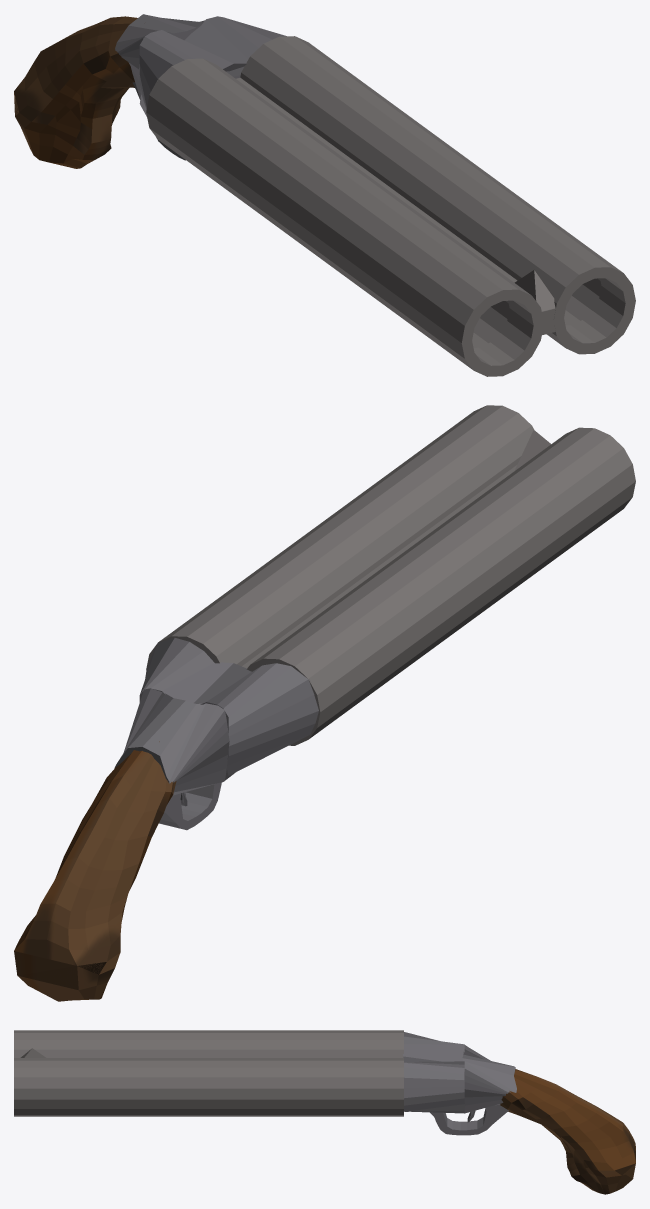
Rendered from Shotgun Mayhem fix.fbx.
The picture shows the model from 3 angles, top to bottom: view 1: azimuth 30°, elevation 25°; view 2: azimuth 150°, elevation 25°; view 3: azimuth 270°, elevation 25°; orthographic projection. The views are drawn at different scales.
Visible parts, largest first — view 1: Shotgun_Barrel, shotgun_Hnadle, Shotgun_Rec; view 2: Shotgun_Barrel, Shotgun_Rec, shotgun_Hnadle; view 3: Shotgun_Barrel, Shotgun_Rec, shotgun_Hnadle.
Part boxes in pixels (left/top/right/bottom): Shotgun_Barrel: left=146, top=36, right=635, bottom=376; shotgun_Hnadle: left=14, top=16, right=137, bottom=168; Shotgun_Rec: left=115, top=14, right=286, bottom=160; Shotgun_Barrel: left=146, top=405, right=635, bottom=745; Shotgun_Rec: left=114, top=638, right=318, bottom=830; shotgun_Hnadle: left=14, top=741, right=176, bottom=1001; Shotgun_Barrel: left=14, top=1030, right=403, bottom=1116; Shotgun_Rec: left=403, top=1032, right=516, bottom=1135; shotgun_Hnadle: left=500, top=1069, right=635, bottom=1194.
Bounding box in the file's own units: 392 × 507 × 1961.
